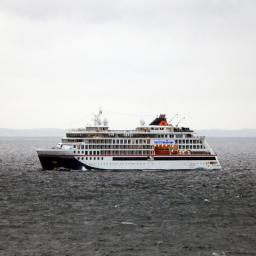cruises: (35, 107, 224, 175)
